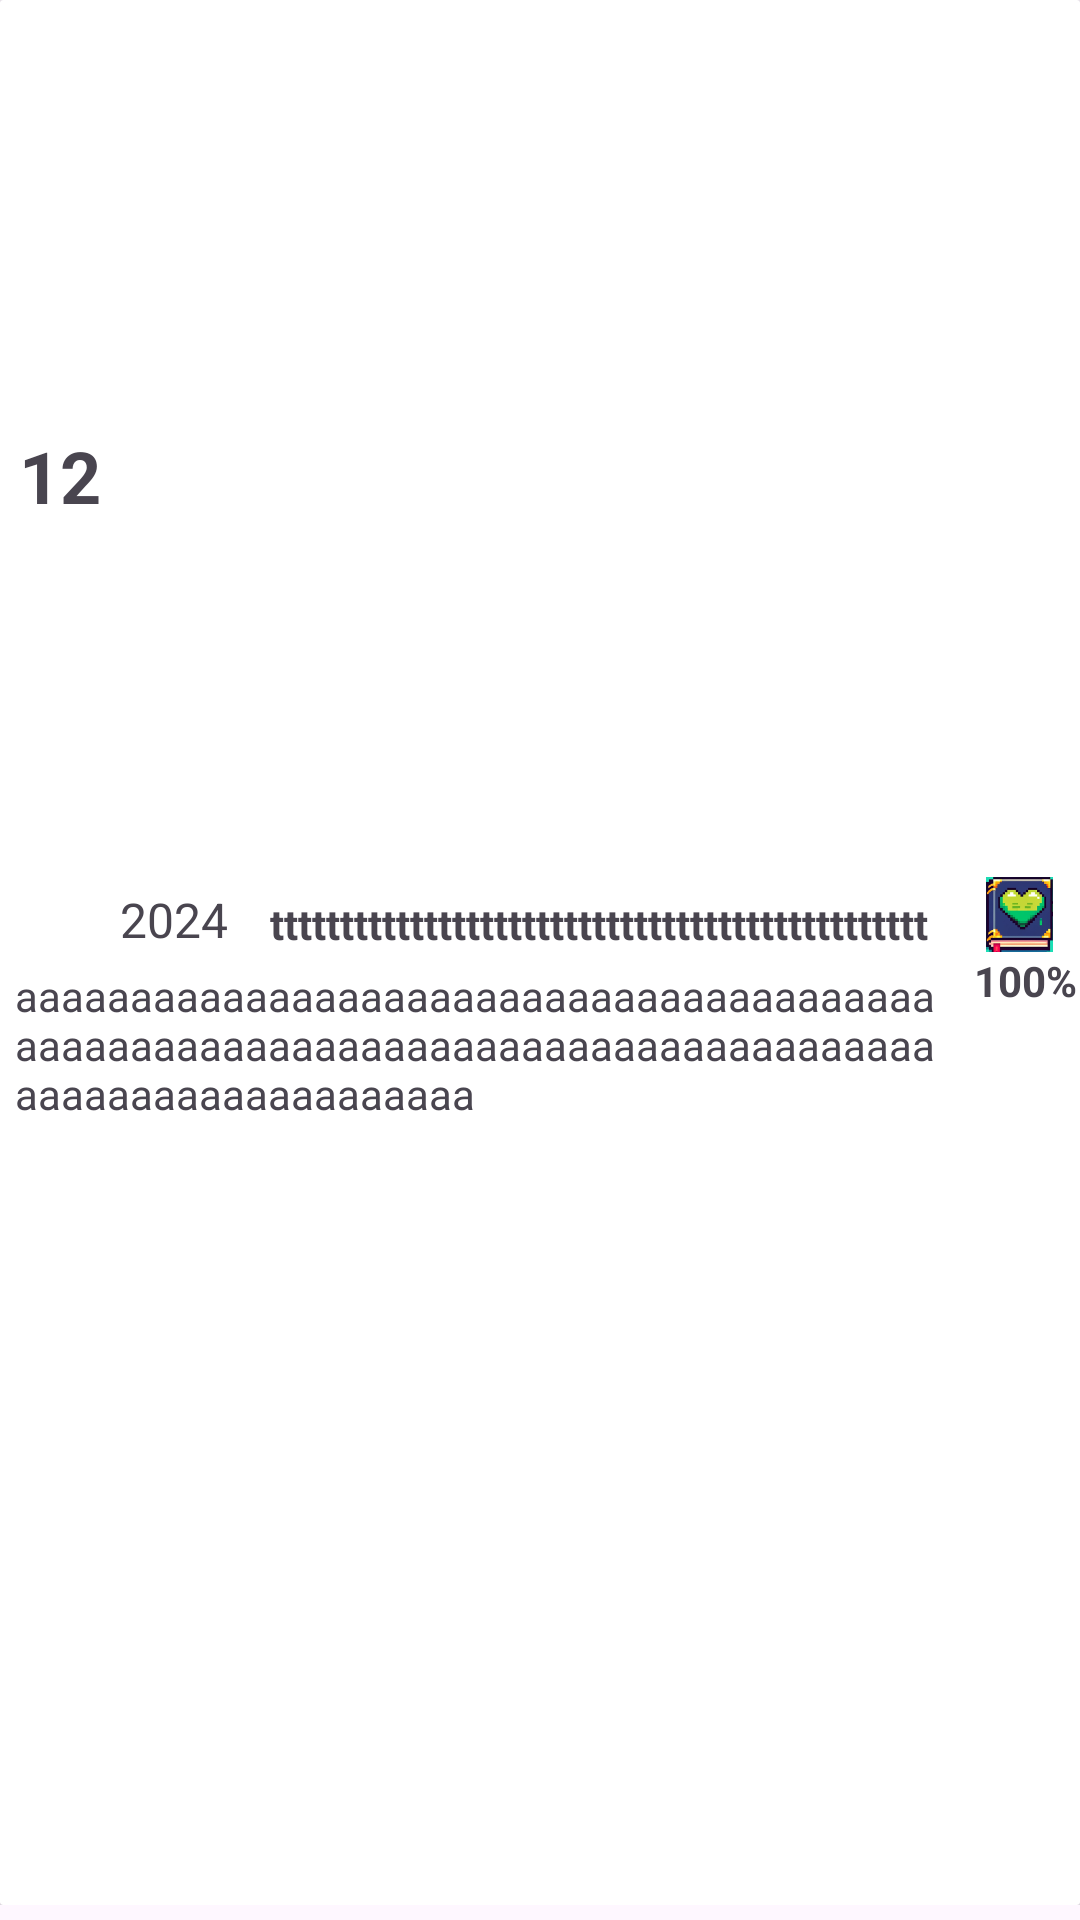

Icon bounding boxes for this 1080 × 1920 phone screenshot, format (x1, y1, x2, y2):
community diaryimage envy: (986, 877, 1053, 952)
